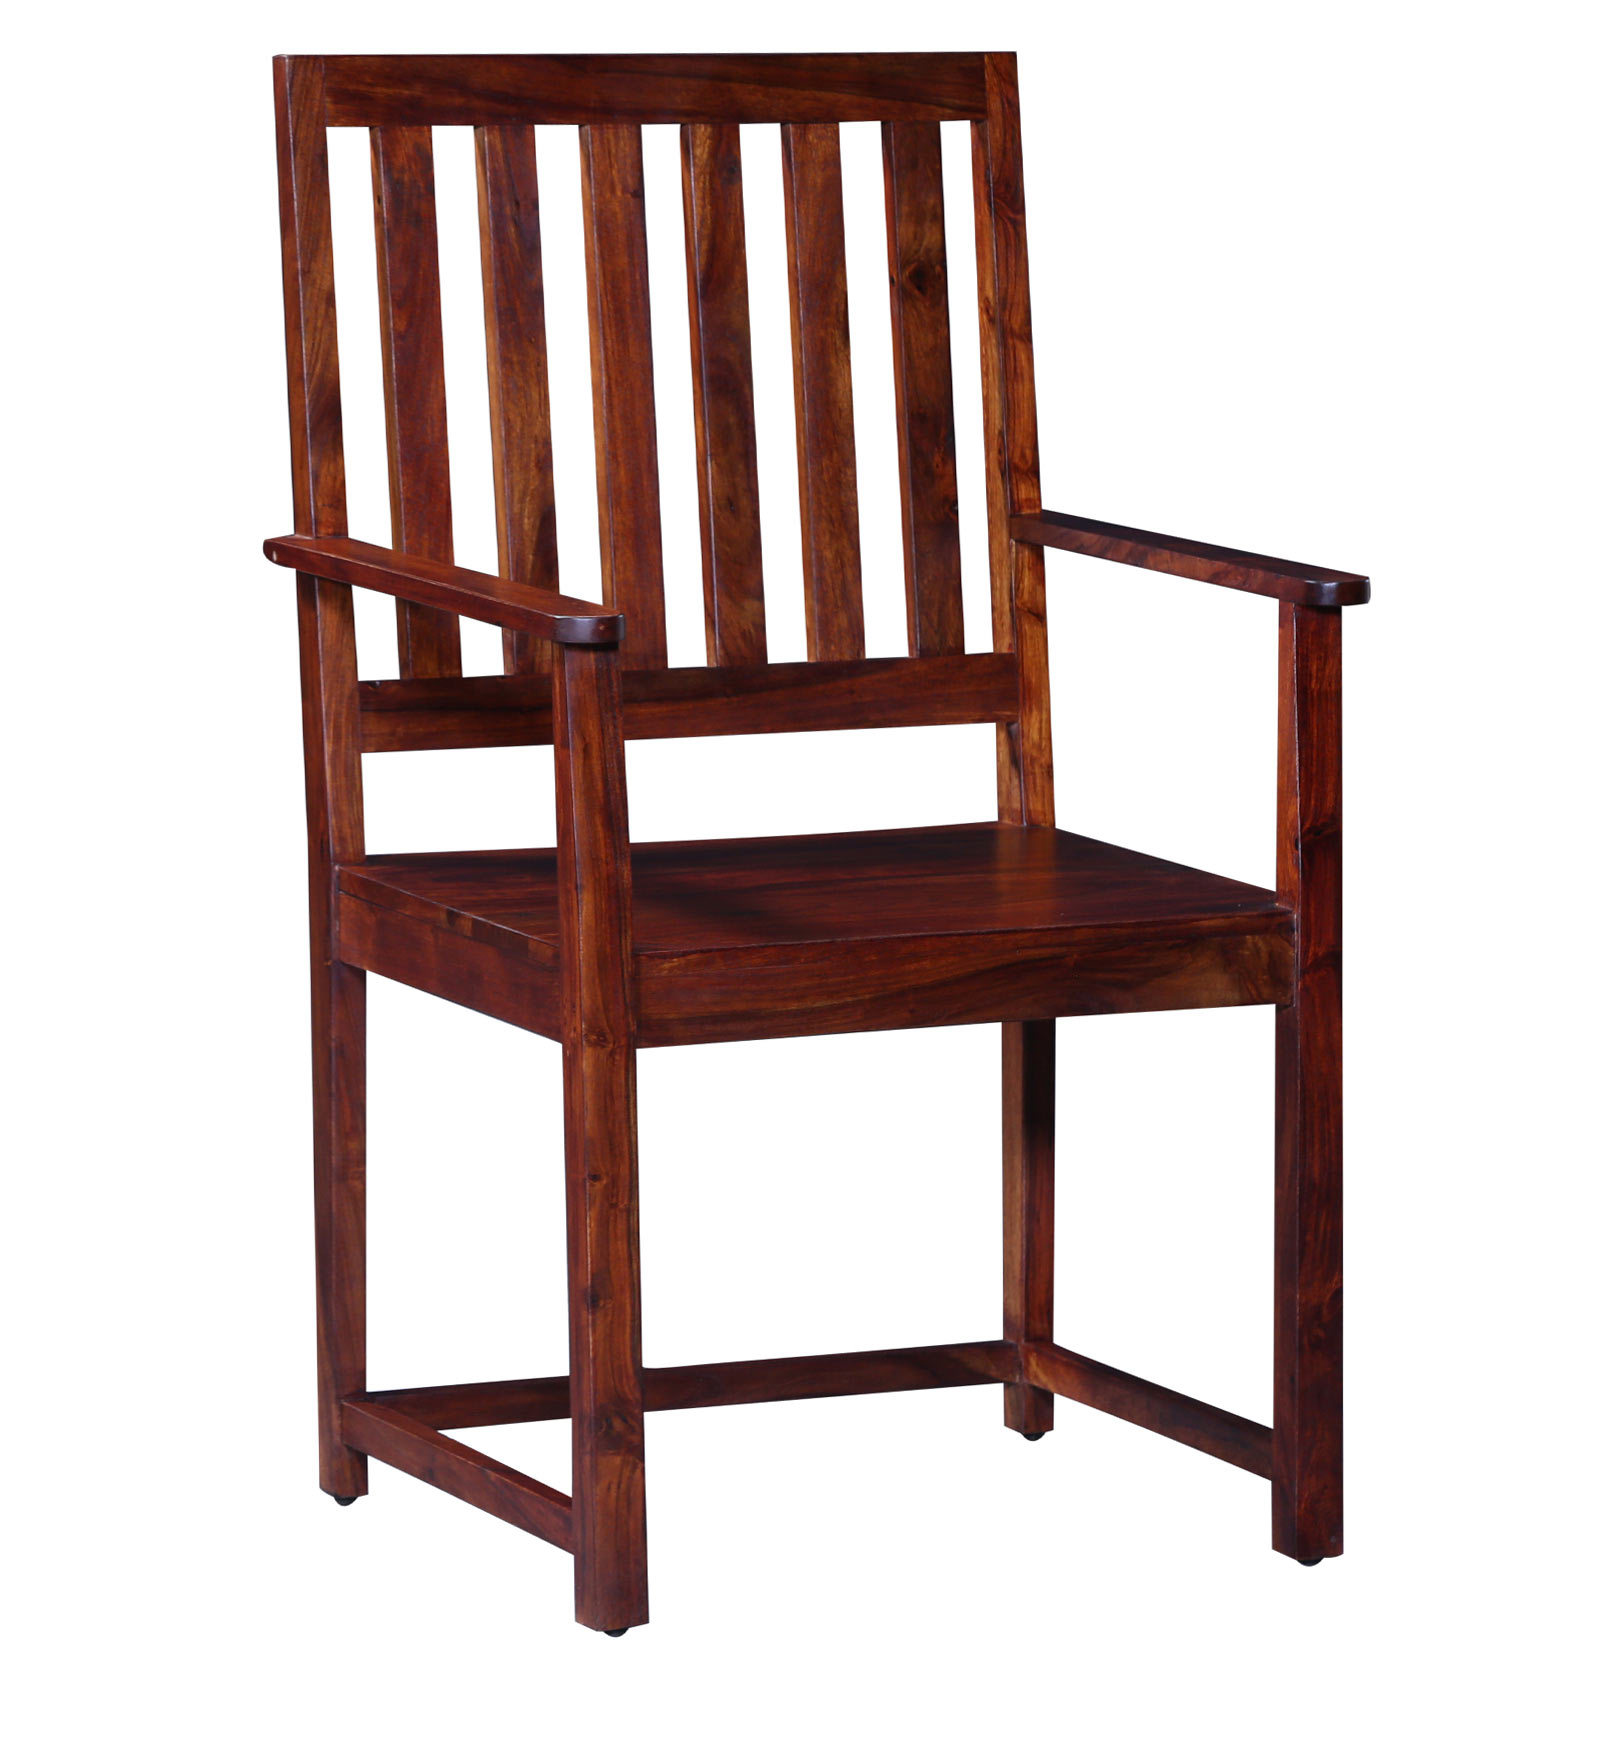Abbey Arm Chair in Honey Oak Finish by Woodsworth: (233, 28, 1418, 1682)
